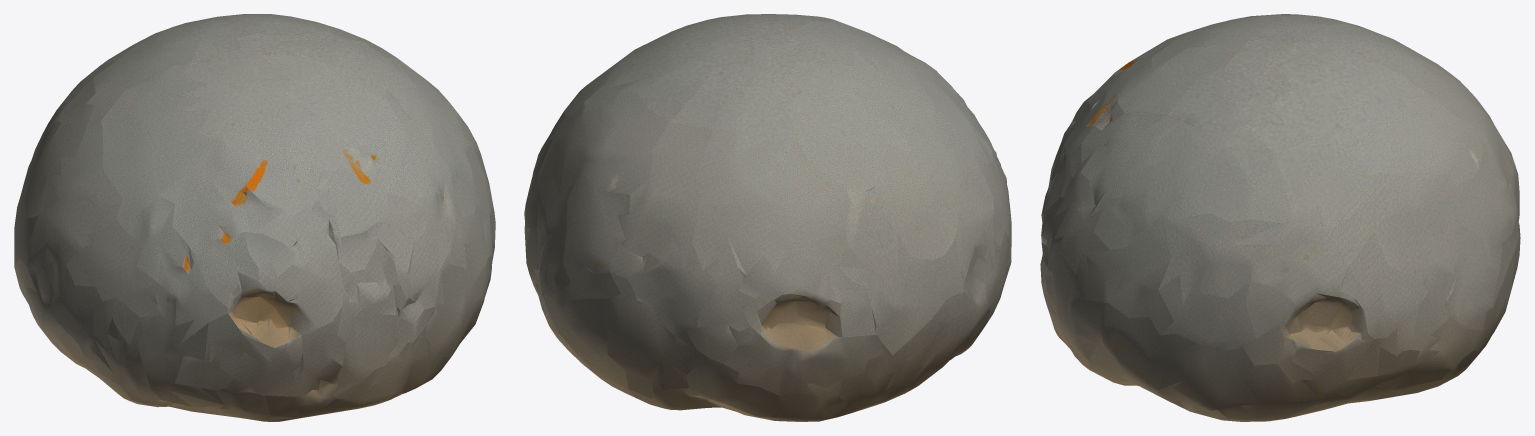
The model's file is Boulder_Granite.glb.
3 views of the same model, side by side, from view 1: azimuth 30°, elevation 25°; view 2: azimuth 150°, elevation 25°; view 3: azimuth 270°, elevation 25° (orthographic).
Size of the model in its own units: 1.9 by 1.29 by 1.85.
1 material, 1 textured.
